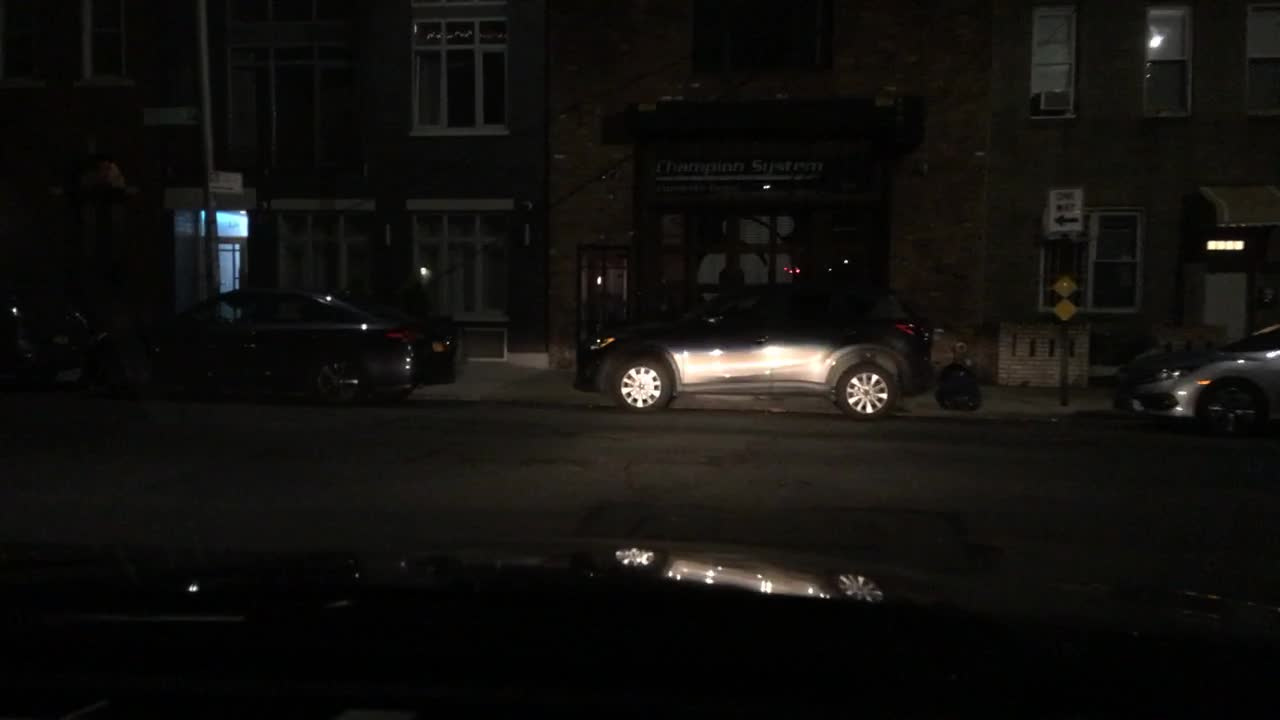car: (579, 280, 933, 422), (96, 280, 461, 408), (1108, 322, 1279, 439), (0, 285, 91, 390)
traffic sign: (1046, 184, 1083, 239), (206, 165, 243, 197), (148, 103, 201, 125)
